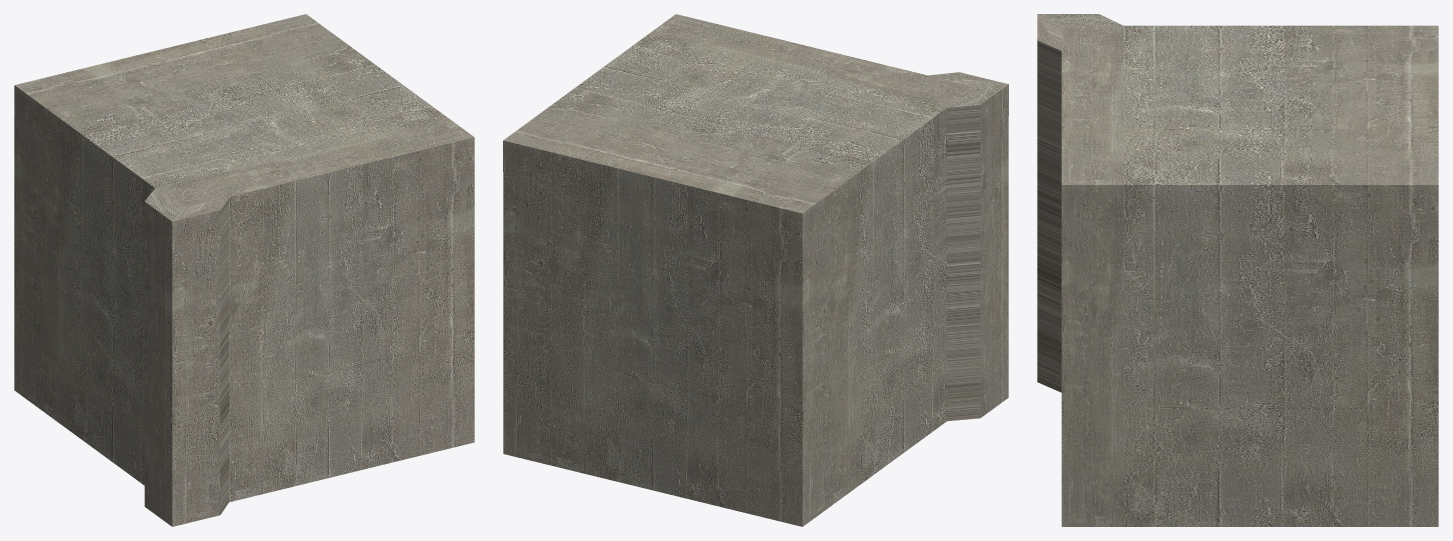
Rendered from rightBlock.FBX.
3 renders of one model, left to right at view 1: azimuth 30°, elevation 25°; view 2: azimuth 150°, elevation 25°; view 3: azimuth 270°, elevation 25°, orthographic. The views are drawn at different scales.
Visible parts, largest first — view 1: Box02_ncl1_1; view 2: Box02_ncl1_1; view 3: Box02_ncl1_1.
Part boxes in pixels (x1=…): Box02_ncl1_1: x1=14, y1=14, x2=474, y2=526; Box02_ncl1_1: x1=503, y1=14, x2=1008, y2=526; Box02_ncl1_1: x1=1037, y1=14, x2=1438, y2=526.
Size of the model in its own units: 64.42 by 60 by 63.88.
Materials: 1 (1 with a texture image).
